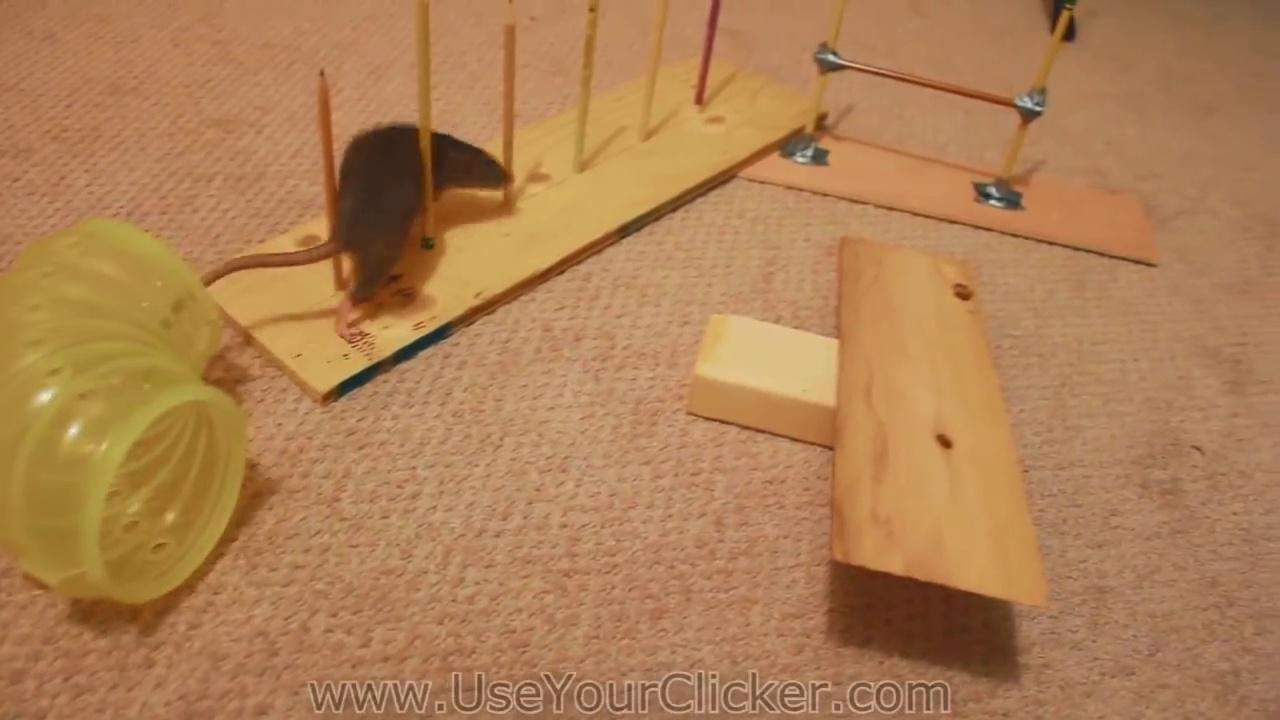rat: (203, 124, 514, 340)
